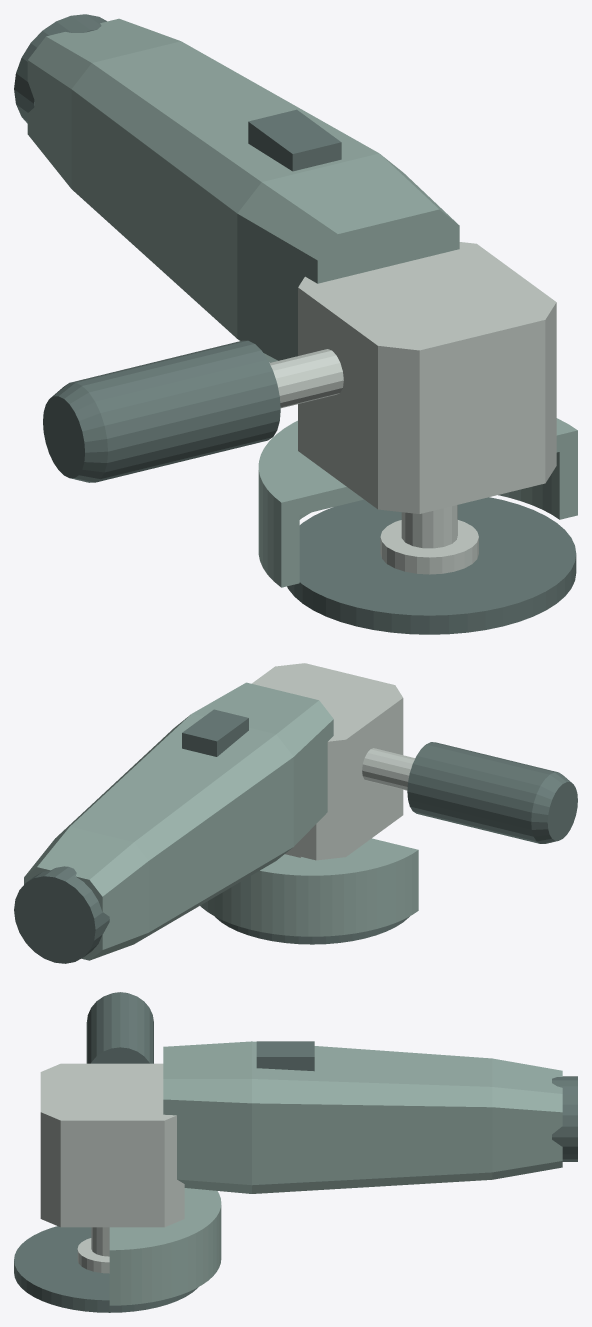
The picture shows the model from 3 angles, top to bottom: view 1: azimuth 30°, elevation 25°; view 2: azimuth 150°, elevation 25°; view 3: azimuth 270°, elevation 25°; orthographic projection. The views are drawn at different scales.
Visible parts, largest first — view 1: WholeLongGripShapedMotorCase, WholeRightAngleGearHead, WholeBluntCircularDisc, WholeFullSideAuxiliaryGrip, WholeThickOpenFrontHalfGuard, WholeBlankTopSlideSwitch, WholeUpperSpindleFlange, WholeRootedSideHandleStem, WholePerpendicularDiscSpindle, WholePlainRearEndCap; view 2: WholeLongGripShapedMotorCase, WholeThickOpenFrontHalfGuard, WholeRightAngleGearHead, WholeFullSideAuxiliaryGrip, WholePlainRearEndCap, WholeBlankTopSlideSwitch, WholeRootedSideHandleStem, WholeBluntCircularDisc; view 3: WholeLongGripShapedMotorCase, WholeRightAngleGearHead, WholeThickOpenFrontHalfGuard, WholeBluntCircularDisc, WholeFullSideAuxiliaryGrip, WholeBlankTopSlideSwitch, WholePlainRearEndCap, WholeUpperSpindleFlange, WholePerpendicularDiscSpindle.
Part boxes in pixels (left/top/right/bottom): WholeLongGripShapedMotorCase: left=27, top=18, right=459, bottom=362; WholeRightAngleGearHead: left=298, top=242, right=556, bottom=513; WholeBluntCircularDisc: left=287, top=497, right=576, bottom=634; WholeFullSideAuxiliaryGrip: left=43, top=340, right=280, bottom=482; WholeThickOpenFrontHalfGuard: left=258, top=418, right=577, bottom=587; WholeBlankTopSlideSwitch: left=248, top=109, right=341, bottom=171; WholeUpperSpindleFlange: left=380, top=520, right=478, bottom=574; WholeRootedSideHandleStem: left=269, top=349, right=343, bottom=408; WholePerpendicularDiscSpindle: left=401, top=505, right=457, bottom=548; WholePlainRearEndCap: left=14, top=14, right=106, bottom=123; WholeLongGripShapedMotorCase: left=24, top=682, right=333, bottom=960; WholeThickOpenFrontHalfGuard: left=200, top=838, right=418, bottom=936; WholeRightAngleGearHead: left=252, top=663, right=403, bottom=860; WholeFullSideAuxiliaryGrip: left=407, top=742, right=577, bottom=843; WholePlainRearEndCap: left=14, top=866, right=109, bottom=963; WholeBlankTopSlideSwitch: left=182, top=709, right=248, bottom=756; WholeRootedSideHandleStem: left=362, top=748, right=414, bottom=790; WholeBluntCircularDisc: left=215, top=916, right=409, bottom=944; WholeLongGripShapedMotorCase: left=163, top=1041, right=562, bottom=1193; WholeRightAngleGearHead: left=40, top=1063, right=184, bottom=1227; WholeThickOpenFrontHalfGuard: left=109, top=1188, right=221, bottom=1305; WholeBluntCircularDisc: left=14, top=1226, right=198, bottom=1312; WholeFullSideAuxiliaryGrip: left=86, top=992, right=153, bottom=1063; WholeBlankTopSlideSwitch: left=256, top=1041, right=314, bottom=1071; WholePlainRearEndCap: left=552, top=1076, right=577, bottom=1161; WholeUpperSpindleFlange: left=77, top=1238, right=109, bottom=1273; WholePerpendicularDiscSpindle: left=91, top=1227, right=109, bottom=1256.
Size of the model in its own units: 0.249 by 0.161 by 0.3685.
